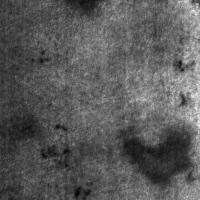patches: (67, 113, 200, 200), (113, 0, 187, 73), (120, 126, 192, 187)
